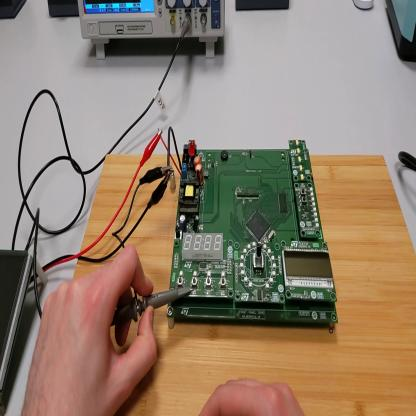hand: (24, 245, 160, 416), (200, 379, 305, 415)
low voltage board: (161, 128, 338, 325)
oscilloscope: (78, 3, 227, 59)
oscilloscope probe tip: (111, 288, 194, 329)
socket: (49, 1, 79, 21), (2, 3, 27, 24)
welder station: (388, 1, 416, 63)
working area: (75, 152, 416, 416)
